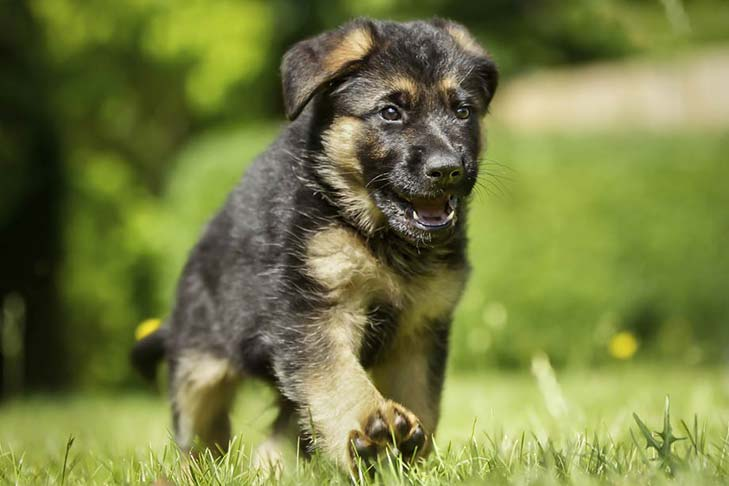dog: (128, 14, 499, 466)
